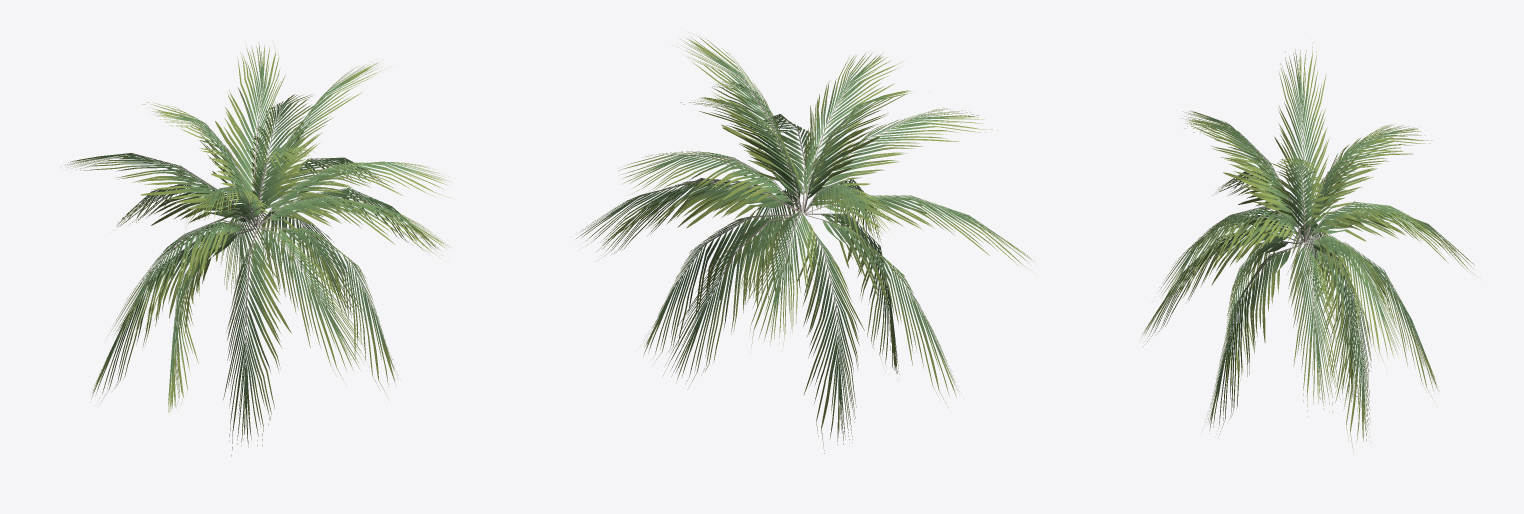
Rendered from m_palm_p2_25_leaf_0.001_lev2.glb.
The picture shows the model from 3 angles, left to right: view 1: azimuth 30°, elevation 25°; view 2: azimuth 150°, elevation 25°; view 3: azimuth 270°, elevation 25°; orthographic projection. The views are drawn at different scales.
Visible parts, largest first — view 1: m_palm_p2_25_leaf_0.001_lev2; view 2: m_palm_p2_25_leaf_0.001_lev2; view 3: m_palm_p2_25_leaf_0.001_lev2.
Part boxes in pixels (<box>): m_palm_p2_25_leaf_0.001_lev2: <box>65,42,452,456</box>; m_palm_p2_25_leaf_0.001_lev2: <box>576,32,1035,453</box>; m_palm_p2_25_leaf_0.001_lev2: <box>1141,39,1478,453</box>.
Bounding box in the file's own units: 3.83 × 3.25 × 3.
1 material, 1 textured.
